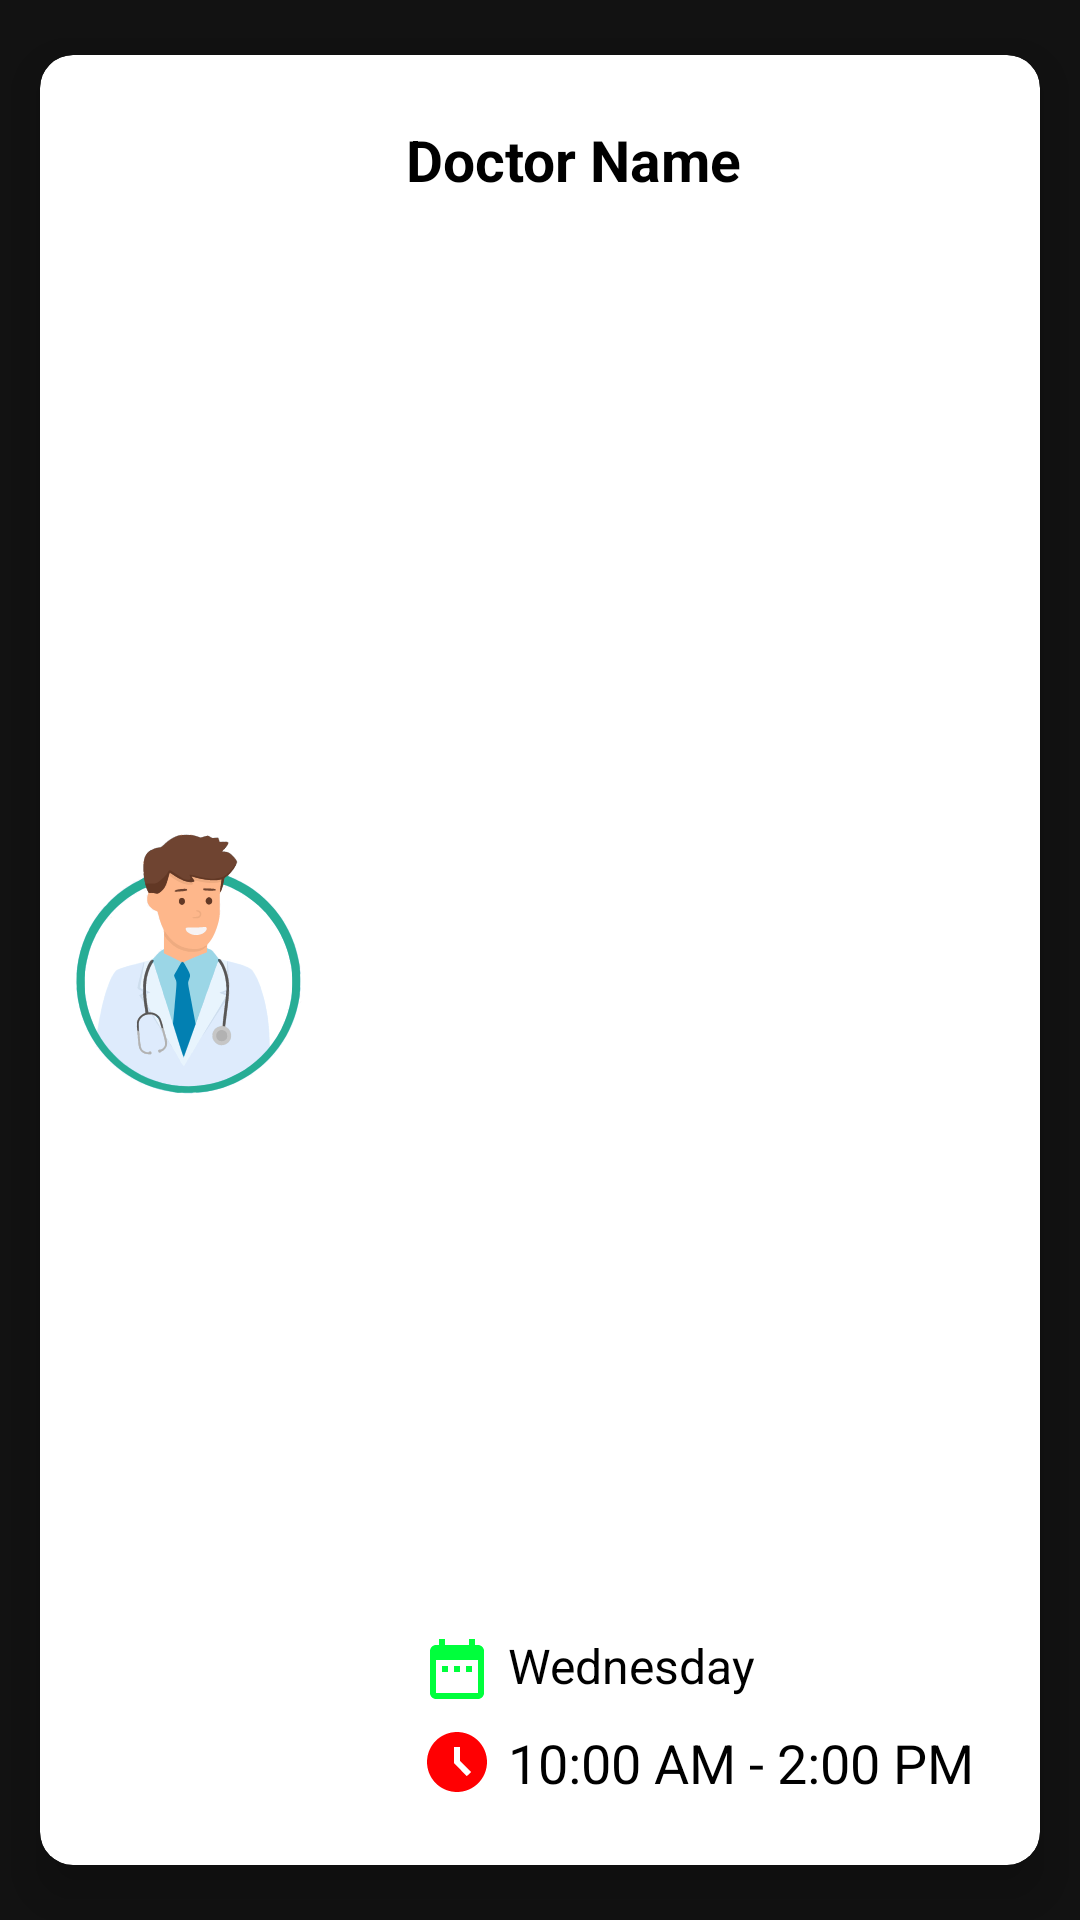

Point at icon controls on the screen. Image size 1080px×1920px, points as [x,y].
clock: [457,1762]
date: [457,1669]
doctor demo: [188,964]
